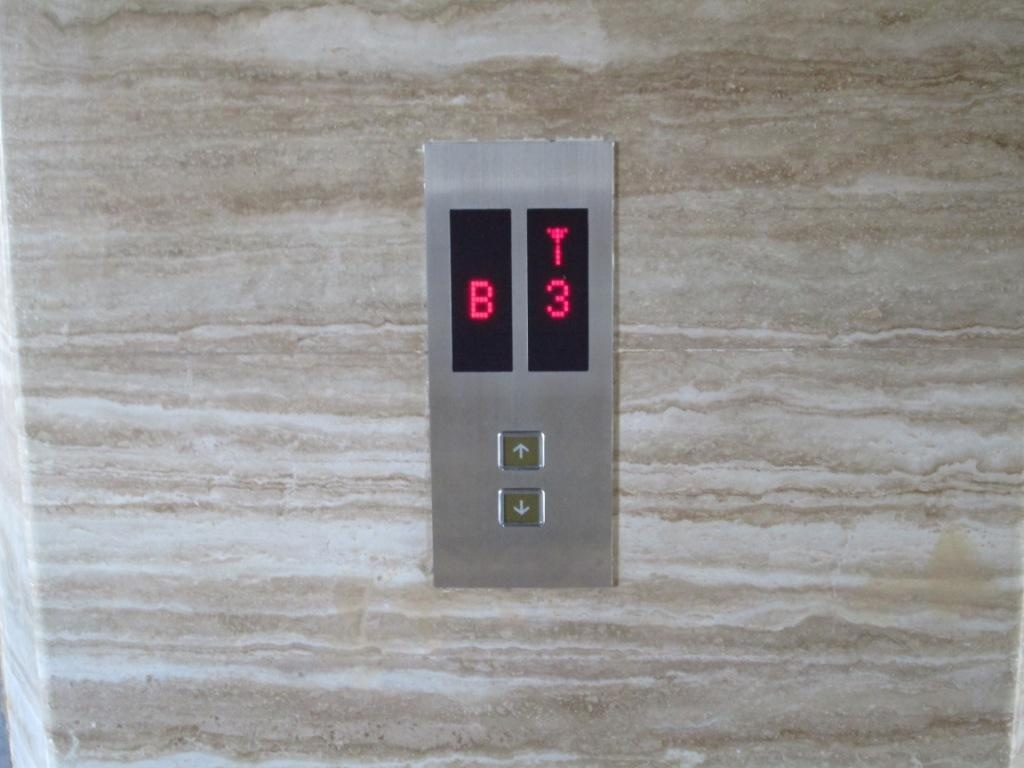down: (493, 484, 547, 529)
led: (524, 204, 593, 375), (447, 206, 515, 375)
up: (493, 428, 547, 473)
